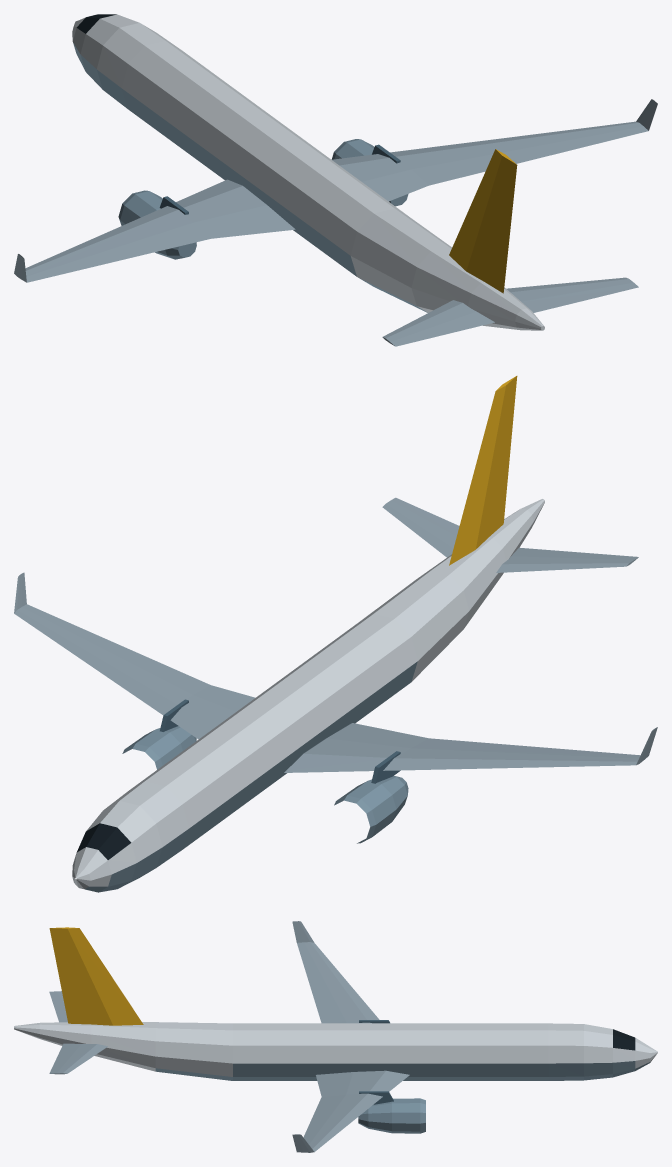
3 views of the same model, one above another, from view 1: azimuth 30°, elevation 25°; view 2: azimuth 150°, elevation 25°; view 3: azimuth 270°, elevation 25° (orthographic). The views are drawn at different scales.
Visible parts, largest first — view 1: lod0; view 2: lod0; view 3: lod0.
Part boxes in pixels (x1=…): lod0: x1=14, y1=14, x2=657, y2=346; lod0: x1=14, y1=376, x2=657, y2=892; lod0: x1=14, y1=921, x2=657, y2=1152.
Size of what is drawn, in the model's own units: 0.7831 by 0.2874 by 1.
